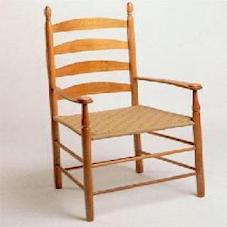chair: (6, 4, 221, 221)
